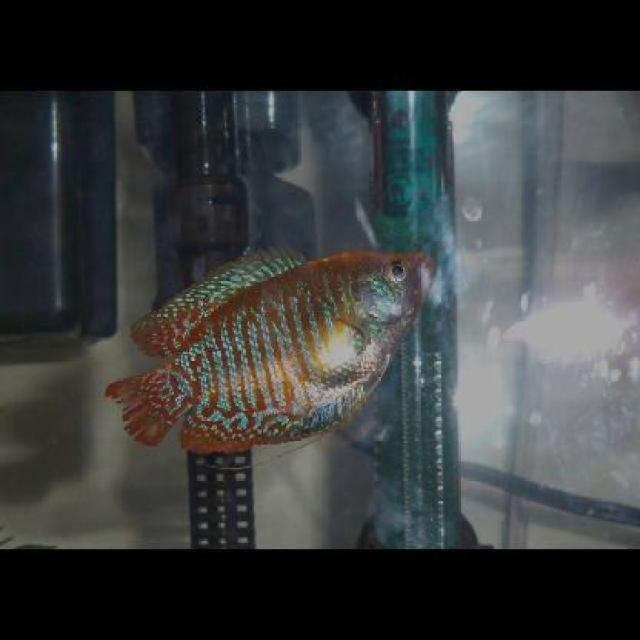Gourami: (102, 230, 442, 462)
